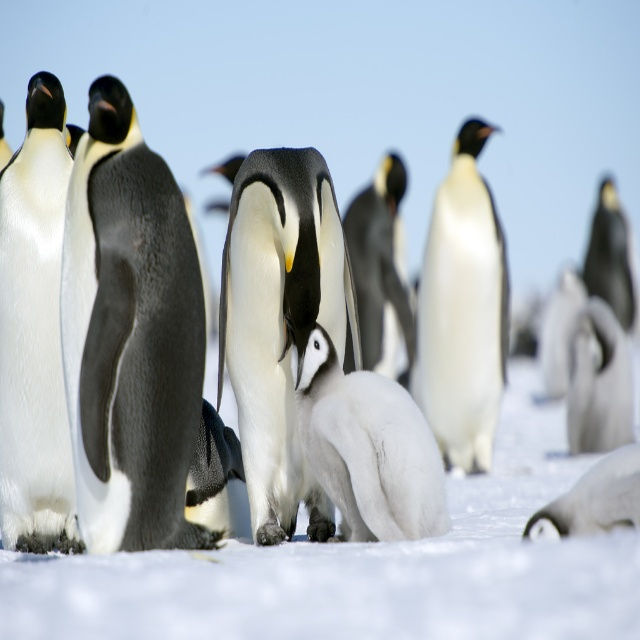Penguin: (57, 70, 221, 546), (222, 143, 362, 550), (402, 118, 523, 485), (0, 63, 82, 556), (289, 322, 452, 541), (340, 144, 410, 385), (529, 445, 640, 547), (563, 290, 632, 444), (182, 395, 252, 543), (580, 186, 635, 340), (534, 262, 586, 393)
